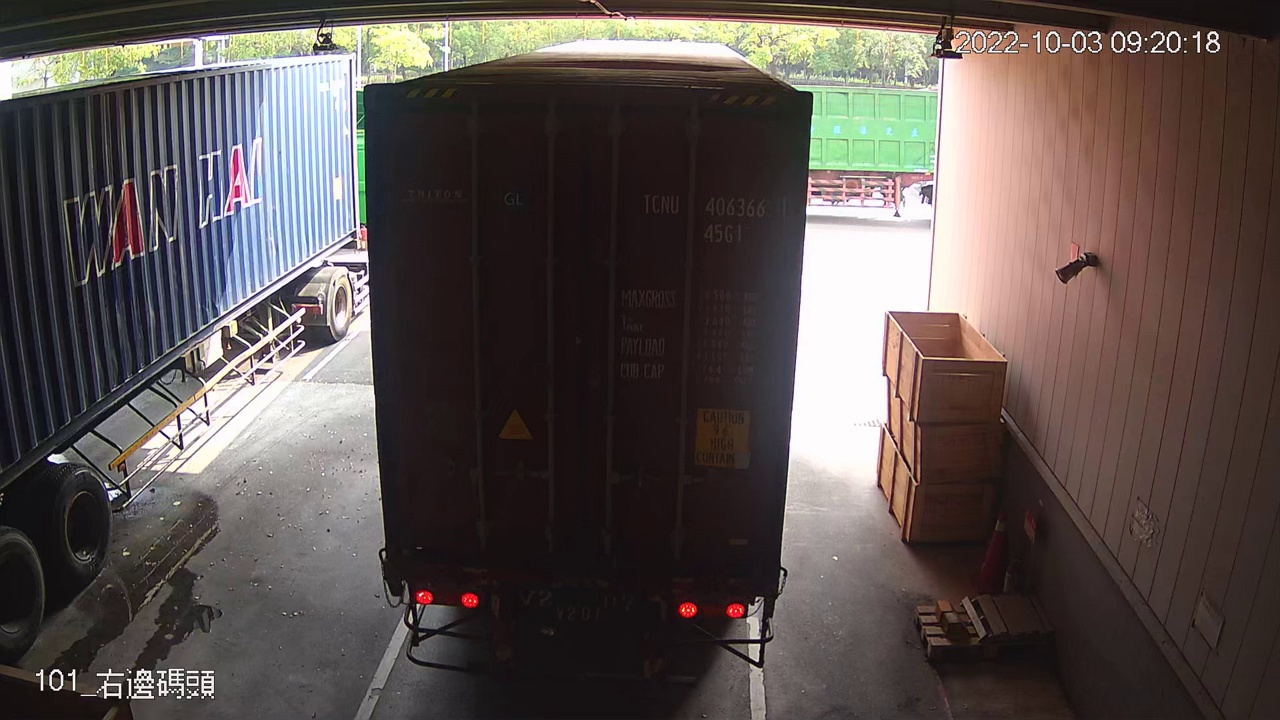container: (633, 182, 797, 252)
